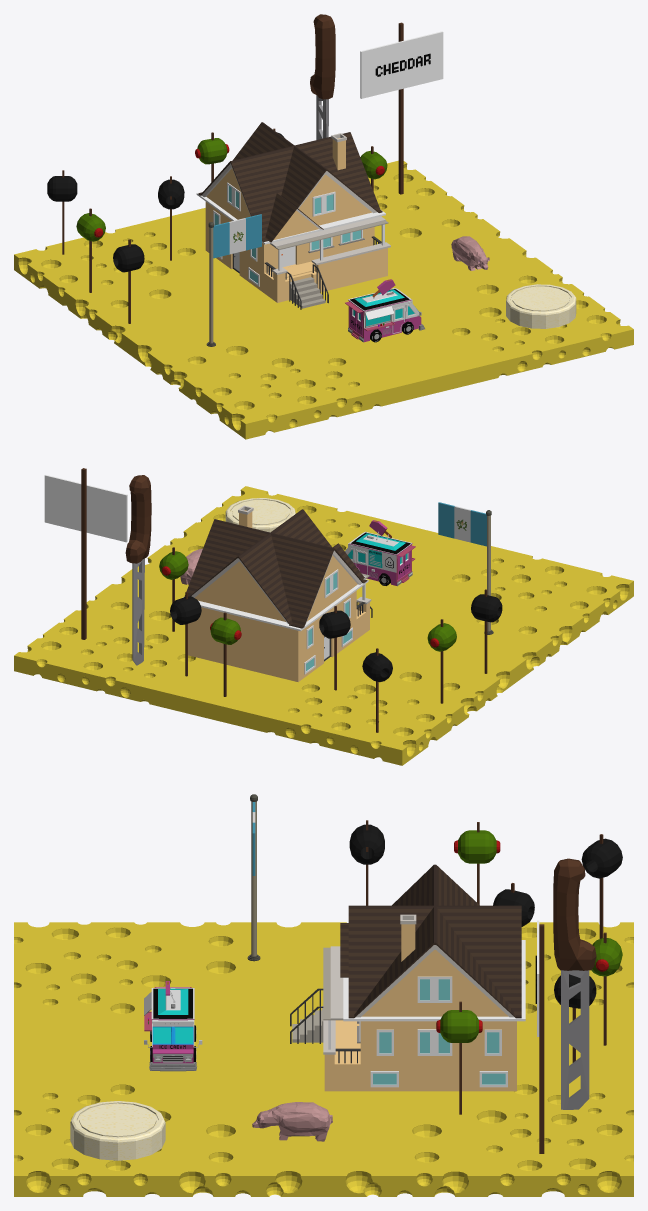
3 renders of one model, top to bottom at view 1: azimuth 30°, elevation 25°; view 2: azimuth 150°, elevation 25°; view 3: azimuth 270°, elevation 25°, orthographic. The views are drawn at different scales.
Visible parts, largest first — view 1: Cube.022, Cube.235, Cube.023, VEHICLES_ICE_CREAM_TRUCK, Cylinder.016, Cube.024, OBJRANDOM_GUATEMALAN_FLAG, ANIMAL_HIPOPOTAMO, Sphere.017, Sphere.016, Sphere.018, Sphere.022 (+2 smaller); view 2: Cube.022, Cube.235, Cube.023, Cube.024, VEHICLES_ICE_CREAM_TRUCK, OBJRANDOM_GUATEMALAN_FLAG, Cylinder.016, Sphere.017, Sphere.022, Sphere.020, Sphere.021, Sphere.018 (+2 smaller); view 3: Cube.022, Cube.235, Cube.024, Cylinder.016, VEHICLES_ICE_CREAM_TRUCK, ANIMAL_HIPOPOTAMO, Cube.023, Sphere.016, Sphere.019, Sphere.018, Sphere.017, Sphere.022 (+3 smaller).
Part boxes in pixels (x1=…): Cube.022: x1=14, y1=160, x2=633, y2=439; Cube.235: x1=196, y1=122, x2=390, y2=309; Cube.023: x1=360, y1=22, x2=443, y2=194; VEHICLES_ICE_CREAM_TRUCK: x1=345, y1=279, x2=424, y2=342; Cylinder.016: x1=506, y1=284, x2=576, y2=328; Cube.024: x1=310, y1=14, x2=335, y2=139; OBJRANDOM_GUATEMALAN_FLAG: x1=206, y1=214, x2=261, y2=346; ANIMAL_HIPOPOTAMO: x1=451, y1=236, x2=489, y2=270; Sphere.017: x1=113, y1=239, x2=144, y2=323; Sphere.016: x1=47, y1=170, x2=77, y2=254; Sphere.018: x1=76, y1=208, x2=105, y2=292; Sphere.022: x1=195, y1=132, x2=229, y2=181; Cube.022: x1=14, y1=486, x2=633, y2=765; Cube.235: x1=183, y1=505, x2=372, y2=681; Cube.023: x1=44, y1=468, x2=127, y2=639; Cube.024: x1=125, y1=475, x2=151, y2=665; VEHICLES_ICE_CREAM_TRUCK: x1=345, y1=520, x2=415, y2=586; OBJRANDOM_GUATEMALAN_FLAG: x1=438, y1=502, x2=493, y2=634; Cylinder.016: x1=225, y1=498, x2=295, y2=532; Sphere.017: x1=471, y1=589, x2=502, y2=673; Sphere.022: x1=210, y1=612, x2=241, y2=696; Sphere.020: x1=319, y1=606, x2=350, y2=690; Sphere.021: x1=170, y1=592, x2=201, y2=676; Sphere.018: x1=427, y1=619, x2=456, y2=703; Cube.022: x1=14, y1=922, x2=633, y2=1196; Cube.235: x1=290, y1=864, x2=525, y2=1091; Cube.024: x1=553, y1=858, x2=596, y2=1109; Cylinder.016: x1=70, y1=1101, x2=165, y2=1160; VEHICLES_ICE_CREAM_TRUCK: x1=144, y1=981, x2=202, y2=1071; ANIMAL_HIPOPOTAMO: x1=252, y1=1102, x2=332, y2=1141; Cube.023: x1=535, y1=920, x2=544, y2=1153; Sphere.016: x1=581, y1=834, x2=622, y2=938; Sphere.019: x1=436, y1=1001, x2=482, y2=1114; Sphere.018: x1=454, y1=822, x2=500, y2=904; Sphere.017: x1=349, y1=820, x2=384, y2=905; Sphere.022: x1=591, y1=932, x2=622, y2=1045.
Bounding box in the file's own units: 3917 × 2159 × 4000.
Materials: 48 (3 with a texture image).
